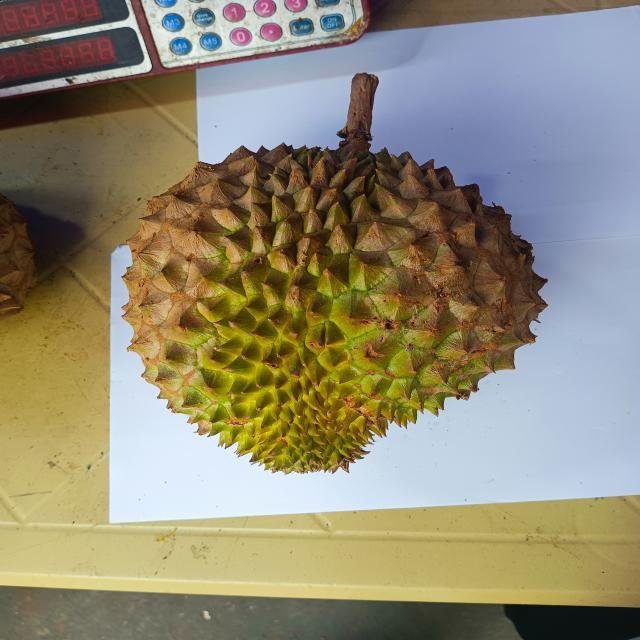mature: (122, 73, 547, 473)
